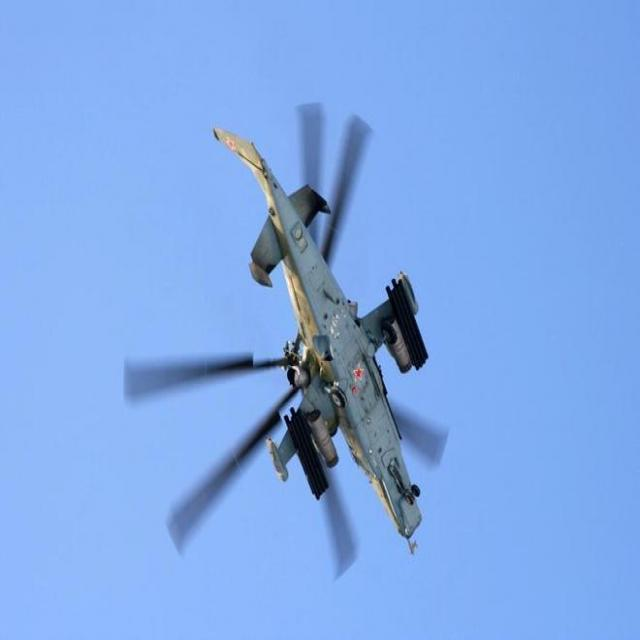MIL_HELO: (117, 95, 451, 590)
